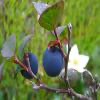Blueberry leaf: (31, 0, 65, 33), (17, 33, 34, 60), (1, 32, 17, 59)
